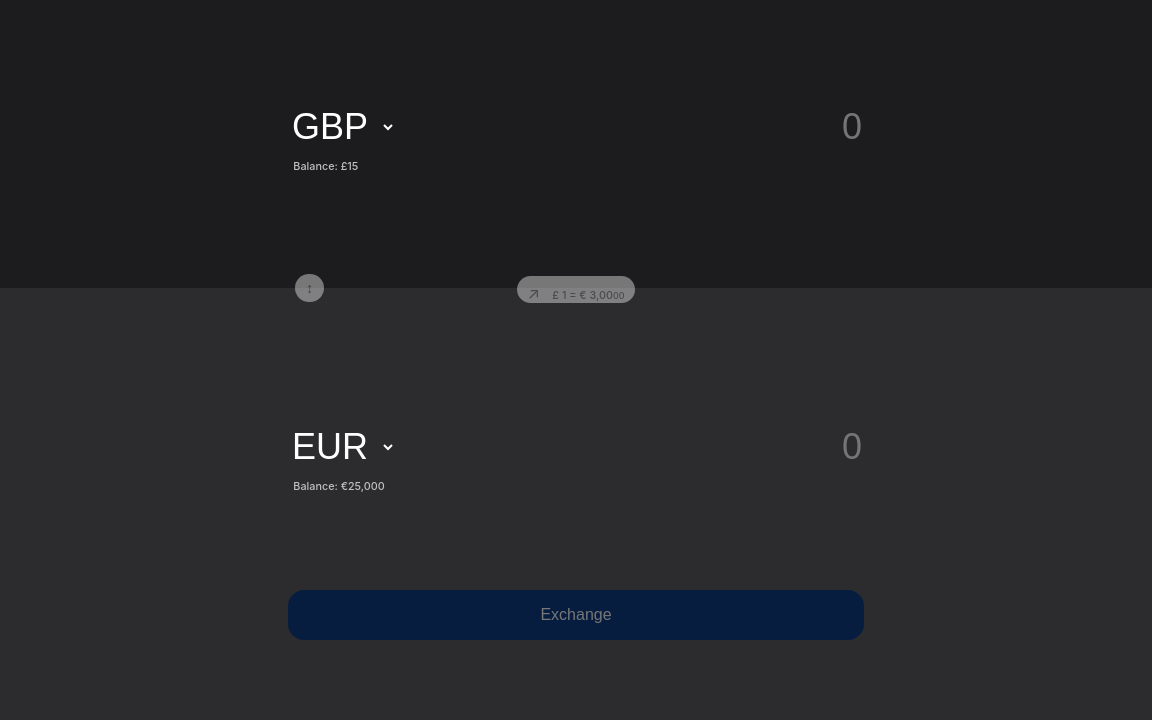
Test: CurrencyExchangeApp › can convert "amountFrom" correctly as per selections
This screenshot has width=1152, height=720.
Expected: the field with test id "amount-to-el" is shown, [404,425,864,469]
Type "1" into the field with test id "amount-from-el".
click(634, 127); type("1")  # box [404,105,864,149]
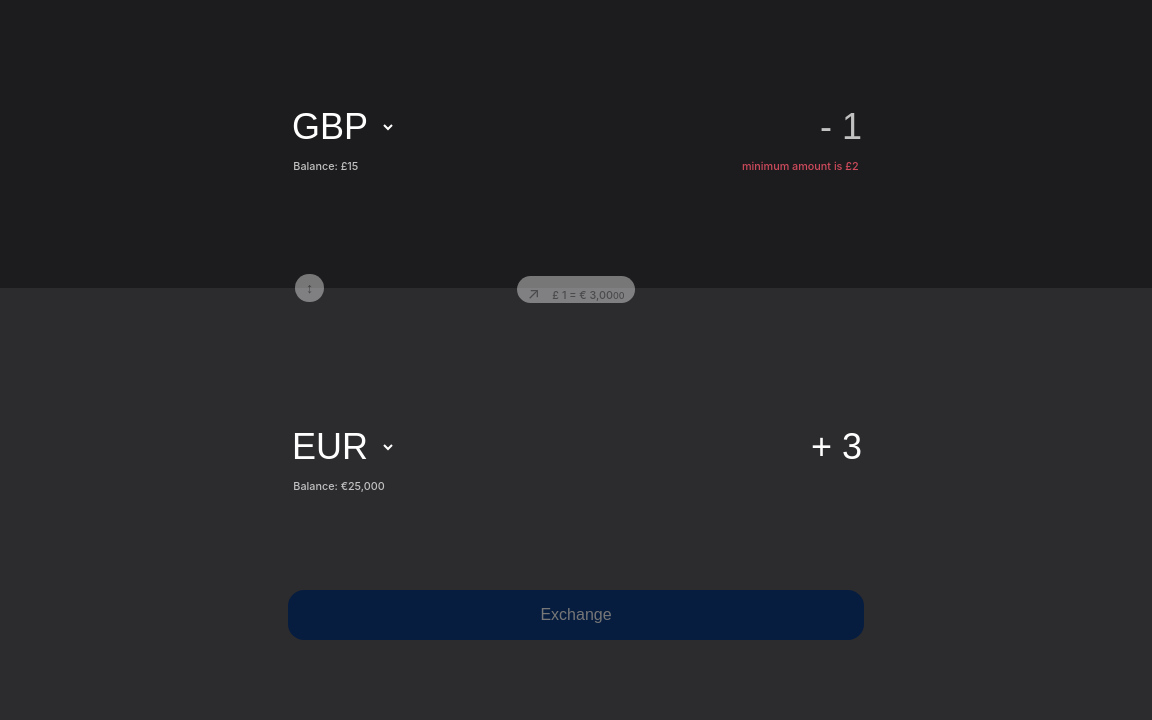
Now the field with test id "amount-from-el" holds "- 1", box [404,105,864,149]
Now the field with test id "amount-to-el" holds "+ 3", box [404,425,864,469]
